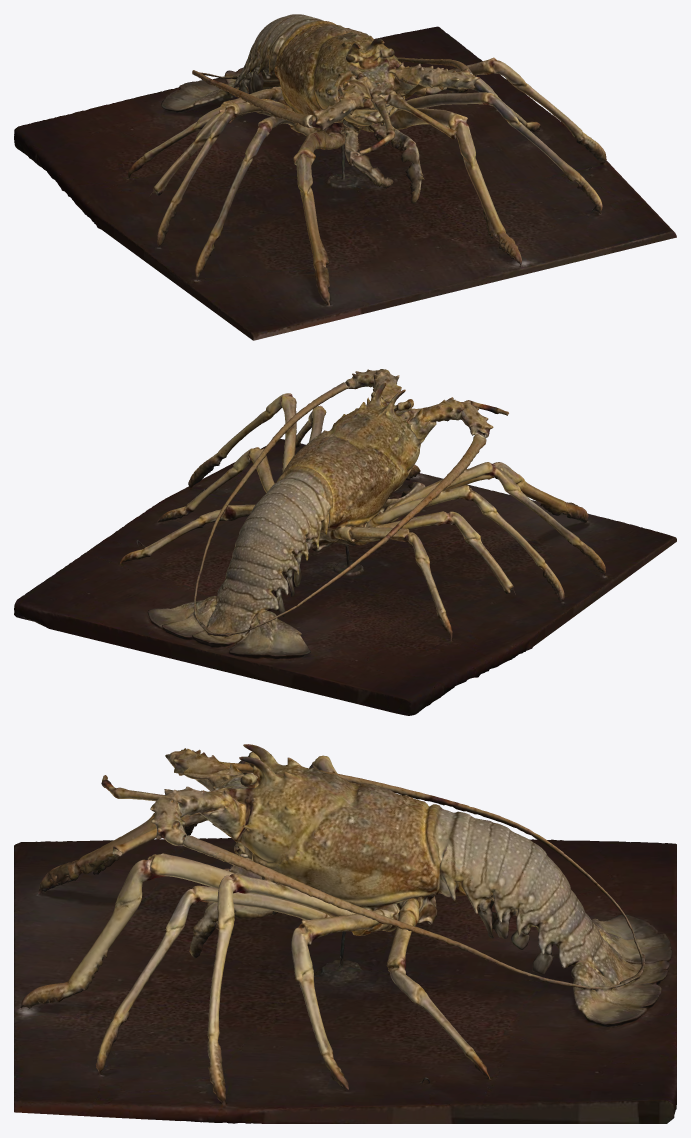
3 views of the same model, one above another, from view 1: azimuth 30°, elevation 25°; view 2: azimuth 150°, elevation 25°; view 3: azimuth 270°, elevation 25° (orthographic). The views are drawn at different scales.
Parts seen in each view (by area): view 1: orientacao; view 2: orientacao; view 3: orientacao.
Part boxes in pixels (x1,y1,x2,y2): orientacao: [14, 14, 676, 340]; orientacao: [14, 369, 676, 715]; orientacao: [14, 744, 676, 1123].
Bounding box in the file's own units: 16450 × 6406 × 16776.
Materials: 1 (1 with a texture image).
